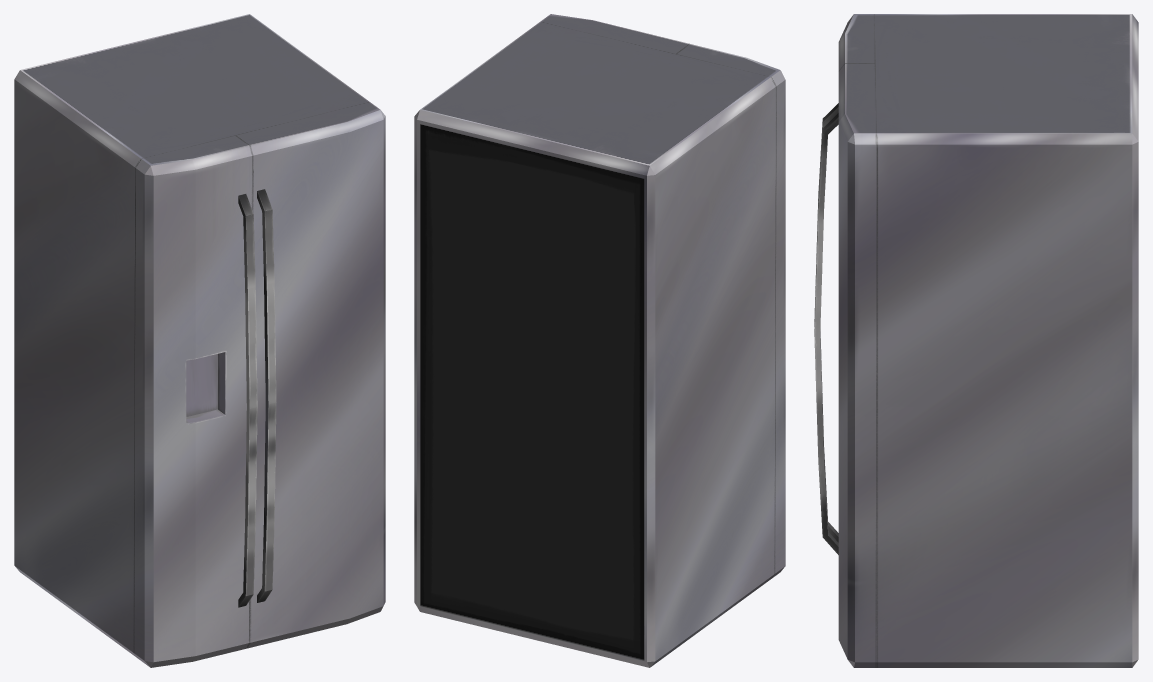
Rendered from MESH_Fridge_4_nodoors_v1.glb.
3 views of the same model, side by side, from view 1: azimuth 30°, elevation 25°; view 2: azimuth 150°, elevation 25°; view 3: azimuth 270°, elevation 25° (orthographic). The views are drawn at different scales.
Visible parts, largest first — view 1: Cube.012, Plane.003, Plane.005; view 2: Cube.012; view 3: Cube.012, Plane.005, Plane.003.
Part boxes in pixels (left/top/right/bottom): Cube.012: left=14, top=14, right=385, bottom=667; Plane.003: left=238, top=194, right=257, bottom=607; Plane.005: left=257, top=189, right=276, bottom=602; Cube.012: left=414, top=14, right=785, bottom=667; Cube.012: left=838, top=14, right=1138, bottom=667; Plane.005: left=814, top=113, right=838, bottom=554; Plane.003: left=814, top=103, right=838, bottom=542.
Size of the model in its own units: 0.92 by 1.83 by 1.01.
1 material, 1 textured.
